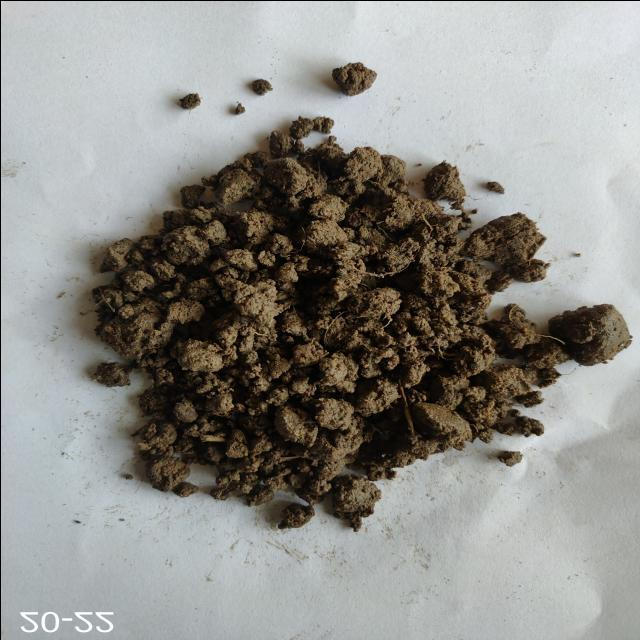soil: (196, 215, 446, 462)
